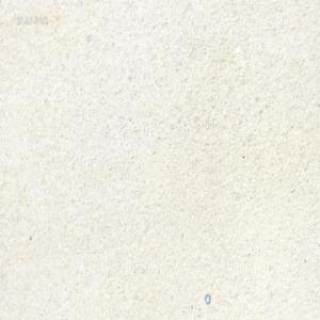Washertrack_idkeyframe: (204, 290, 210, 303)
